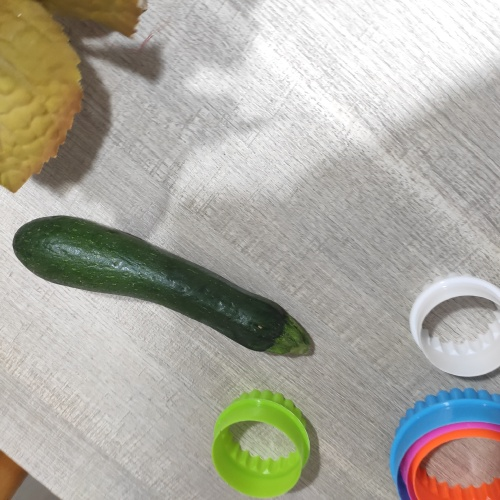zucchine: (16, 215, 337, 367)
